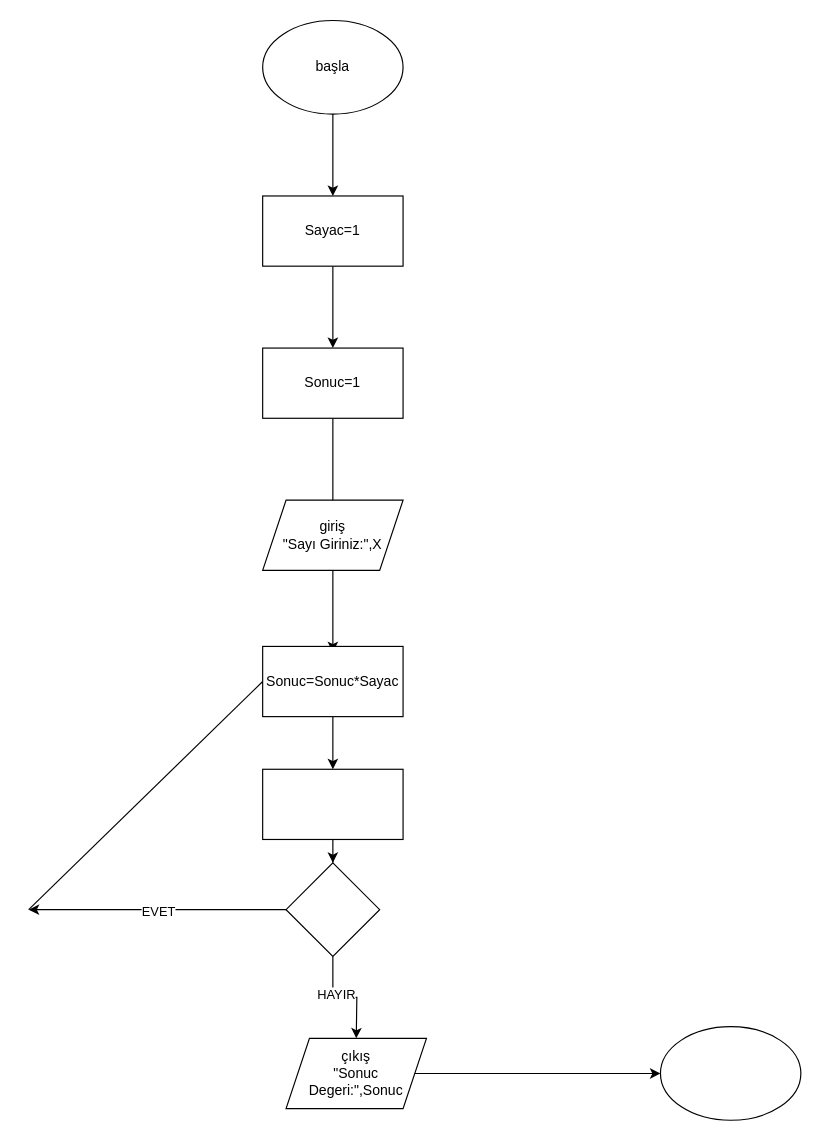
The diagram is 821 pixels wide and 1141 high, and some of its shapes have lost their labels. The shapes that lost their labels are listed below. From the top down, each one's box as (x1, y1, x2, y2) in pixels, then its label:
(261, 768, 403, 839): Sayac=Sayac+1
(285, 862, 380, 956): Sayac<=X
(659, 1026, 801, 1120): dur
